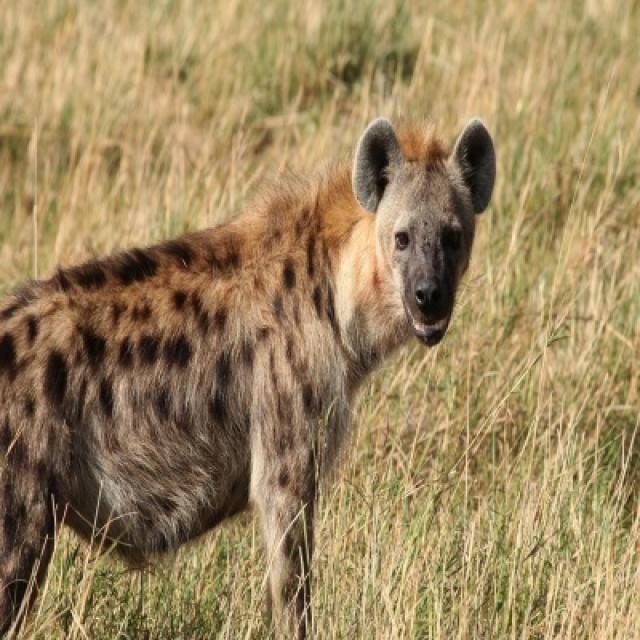hyena: (0, 118, 499, 638)
